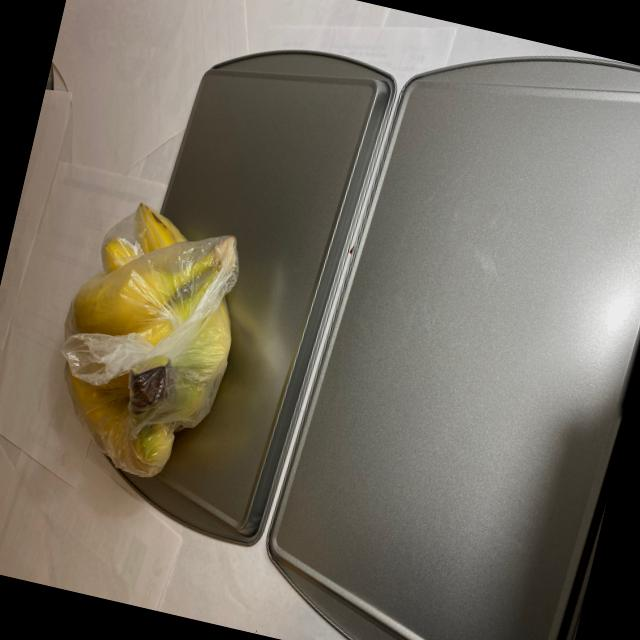banana: (31, 189, 266, 499)
